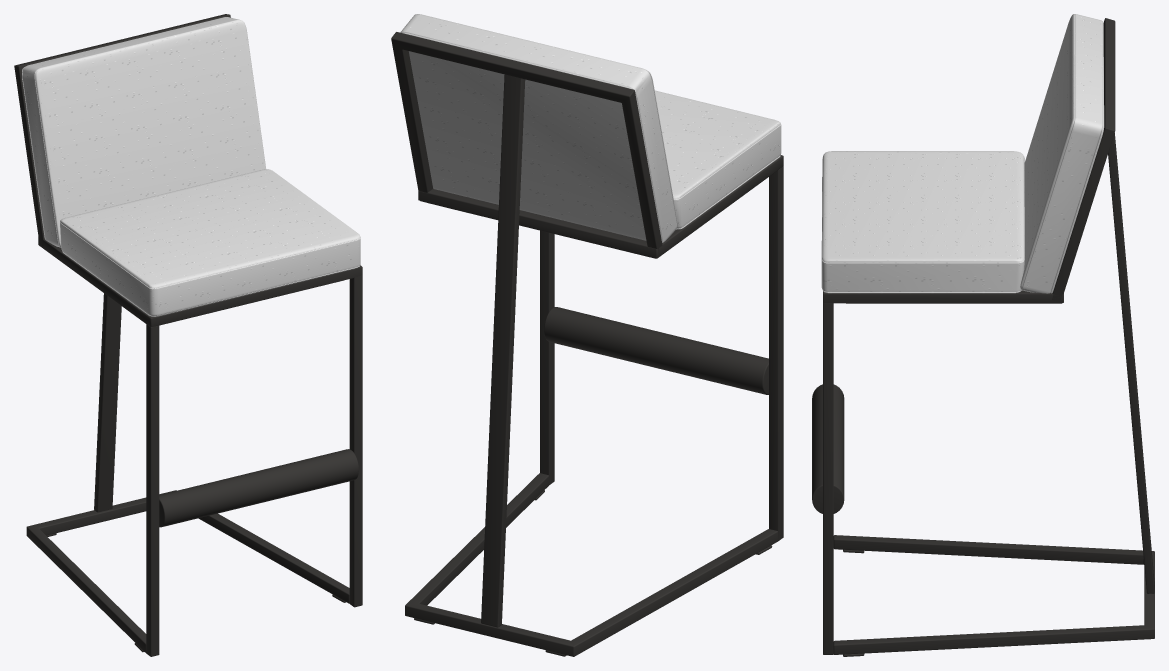
The picture shows the model from 3 angles, left to right: view 1: azimuth 30°, elevation 25°; view 2: azimuth 150°, elevation 25°; view 3: azimuth 270°, elevation 25°; orthographic projection. The views are drawn at different scales.
Visible parts, largest first — view 1: C-skp1EC9; view 2: C-skp1EC9; view 3: C-skp1EC9.
Part boxes in pixels (x1=…): C-skp1EC9: x1=14, y1=14, x2=362, y2=656; C-skp1EC9: x1=391, y1=14, x2=783, y2=656; C-skp1EC9: x1=812, y1=14, x2=1154, y2=656.
Size of the model in its own units: 0.42 by 0.95 by 0.55.
2 materials, 1 textured.
